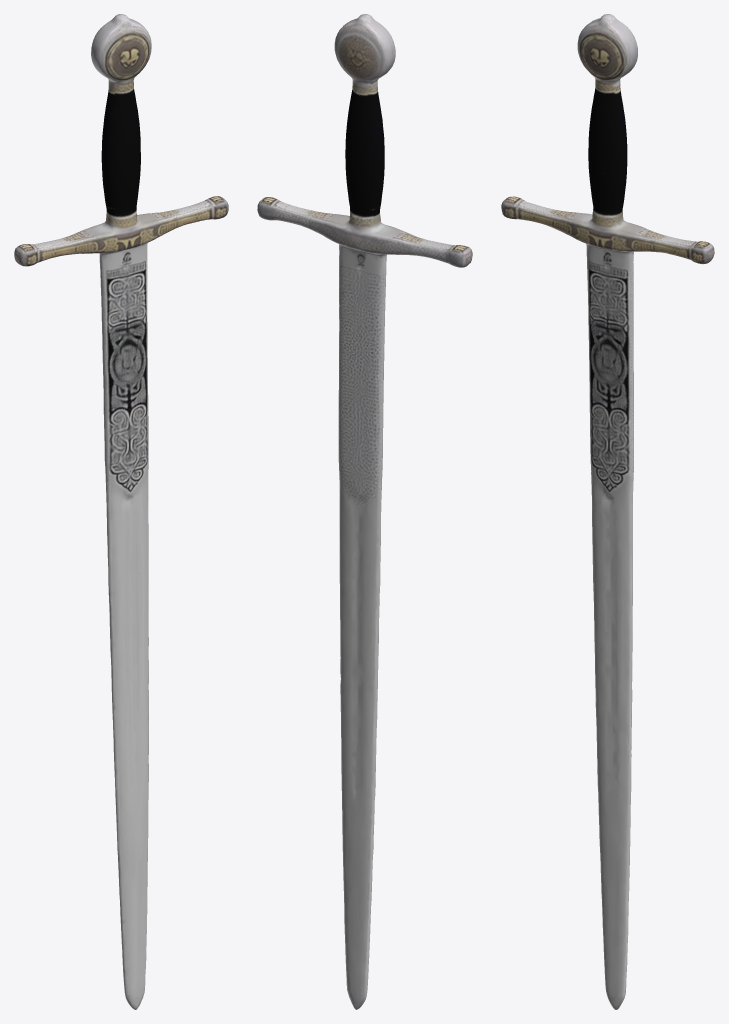
The model's file is excalibur.glb.
The picture shows the model from 3 angles, left to right: view 1: azimuth 30°, elevation 25°; view 2: azimuth 150°, elevation 25°; view 3: azimuth 330°, elevation 25°; orthographic projection.
Parts seen in each view (by area): view 1: Excalibur_Blade; view 2: Excalibur_Blade; view 3: Excalibur_Blade.
Part boxes in pixels (left/top/right/bottom): Excalibur_Blade: left=14, top=14, right=228, bottom=1009; Excalibur_Blade: left=257, top=14, right=472, bottom=1009; Excalibur_Blade: left=501, top=14, right=714, bottom=1009.
Size of the model in its own units: 0.4174 by 1.9 by 0.0597.
Materials: 1 (1 with a texture image).
